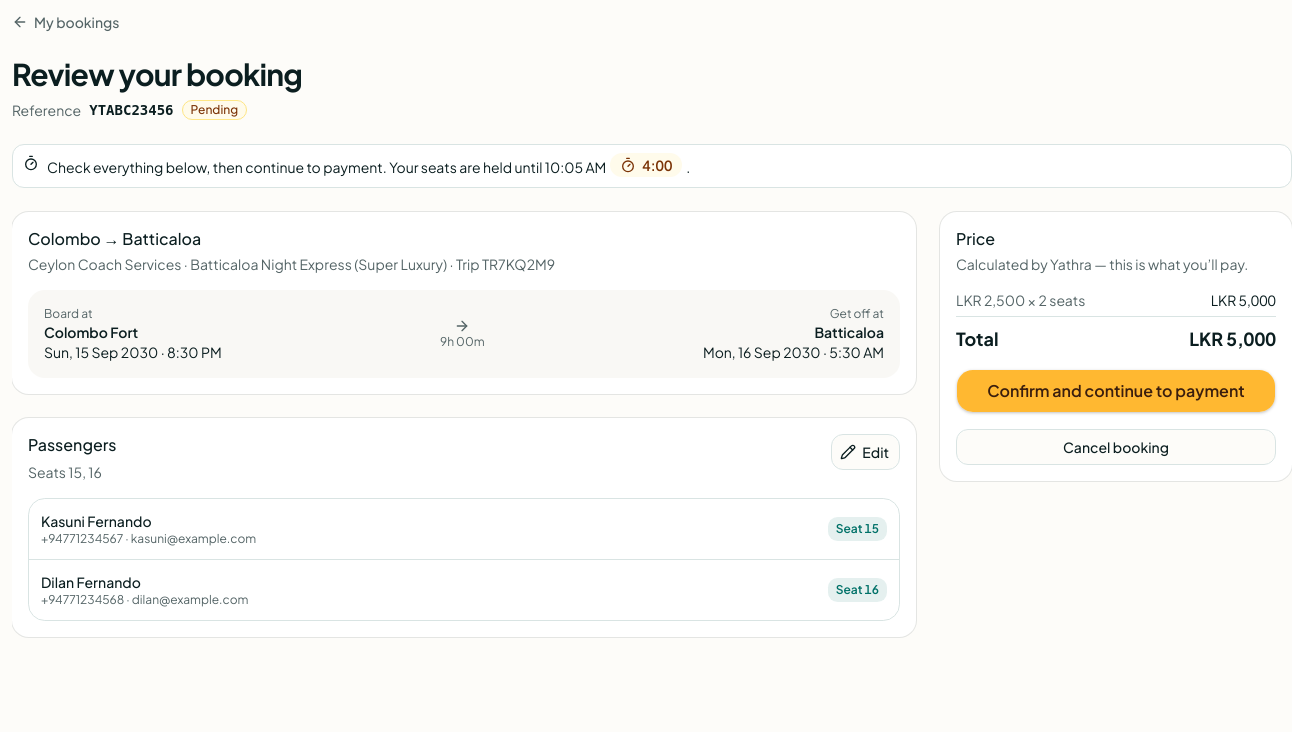
Test case: BookingView › reviews a pending booking with its countdown and server price
This screenshot has width=1292, height=732.
Expected: the heading "Review your booking" is shown, top-left (12, 55), bottom-right (302, 93)
Expected: the element showing "4:00" is shown, top-left (610, 153), bottom-right (682, 177)
Click the button "Confirm and continue to payment": {"x": 1116, "y": 391} top-left (956, 369), bottom-right (1276, 413)
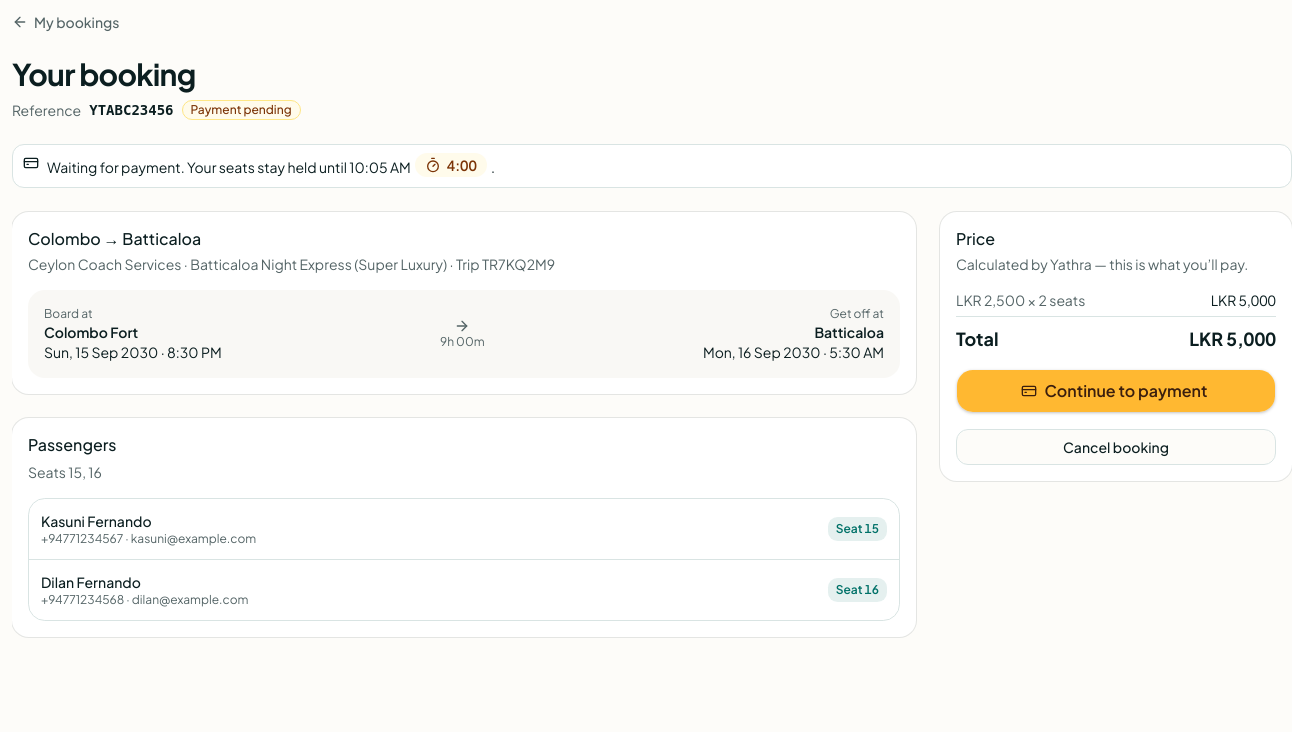
Expected: the text "Payment pending" is shown, top-left (182, 100), bottom-right (300, 120)
